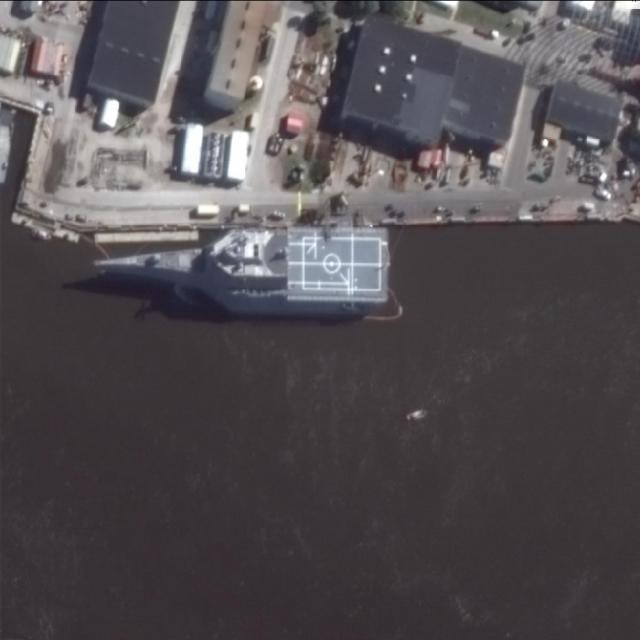Frigate: (92, 229, 387, 315)
